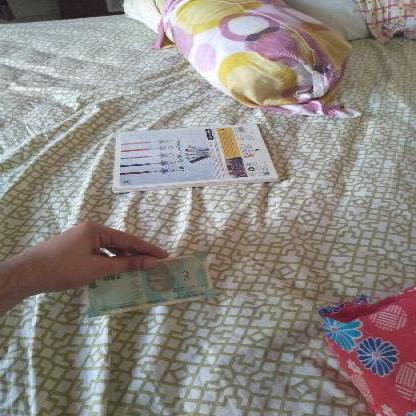New50Front: (92, 255, 215, 303)
